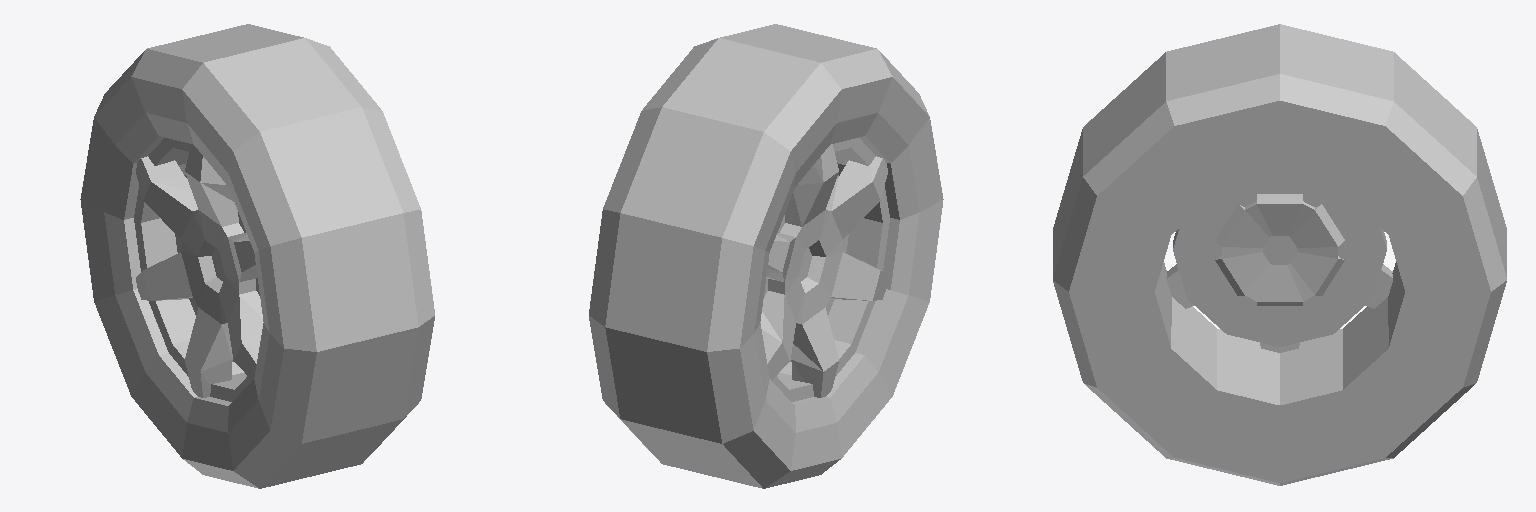
Rendered from wheel_br.obj.
3 views of the same model, side by side, from view 1: azimuth 30°, elevation 25°; view 2: azimuth 150°, elevation 25°; view 3: azimuth 270°, elevation 25° (orthographic).
Parts seen in each view (by area): view 1: back_right_SM_Veh_Car_Taxi_Wheel_rr_网格.005; view 2: back_right_SM_Veh_Car_Taxi_Wheel_rr_网格.005; view 3: back_right_SM_Veh_Car_Taxi_Wheel_rr_网格.005.
Boxes of the visible parts, box(x1,y1,x2,y2) form: back_right_SM_Veh_Car_Taxi_Wheel_rr_网格.005: box(80, 24, 434, 488); back_right_SM_Veh_Car_Taxi_Wheel_rr_网格.005: box(589, 24, 943, 488); back_right_SM_Veh_Car_Taxi_Wheel_rr_网格.005: box(1053, 24, 1506, 485).
Size of the model in its own units: 0.2708 by 0.7231 by 0.7231.